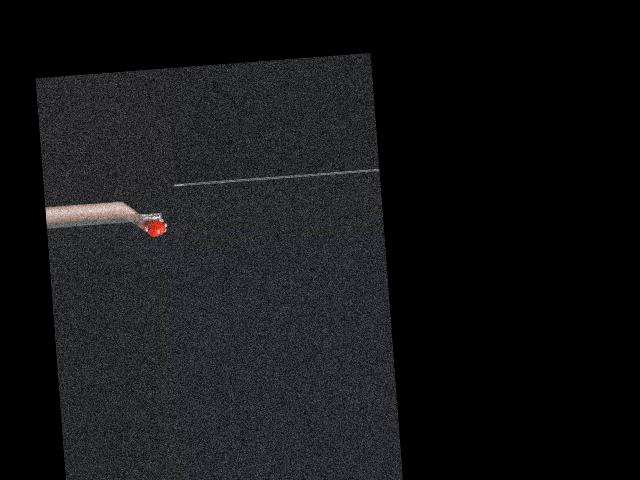tomato: (146, 219, 165, 237)
